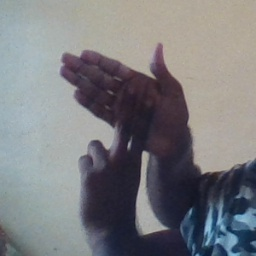N: (55, 38, 184, 187)
